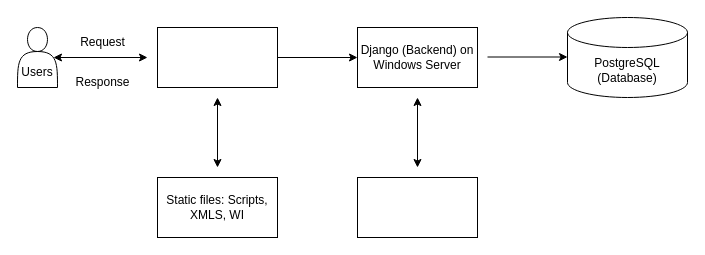
Image size: 705x255. Some labels were removed from this diagram. Here are the shapes that lost their labels. From the top down, the centre of each, then its label:
At (217,57): "Browser (HTML/CSS/JS)".
At (417,207): "URLs, Templates, Views, Models".
